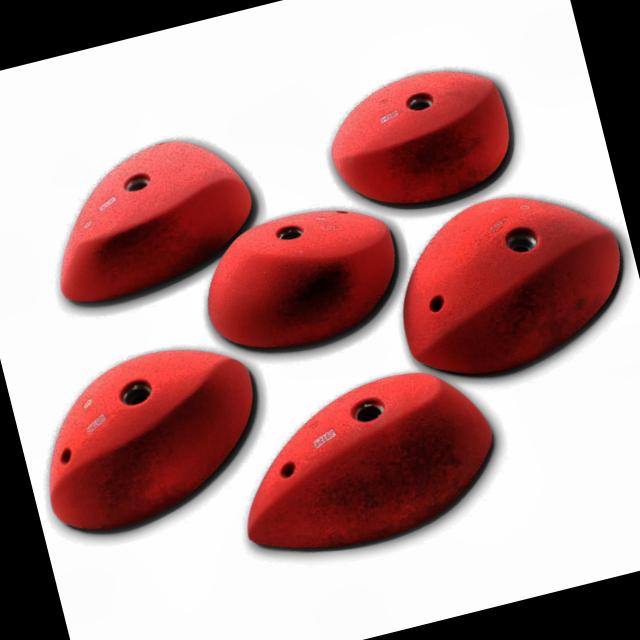Hold: (224, 352, 512, 568), (22, 332, 280, 546), (387, 172, 638, 390), (30, 122, 269, 319), (198, 195, 415, 361), (320, 56, 530, 222)
